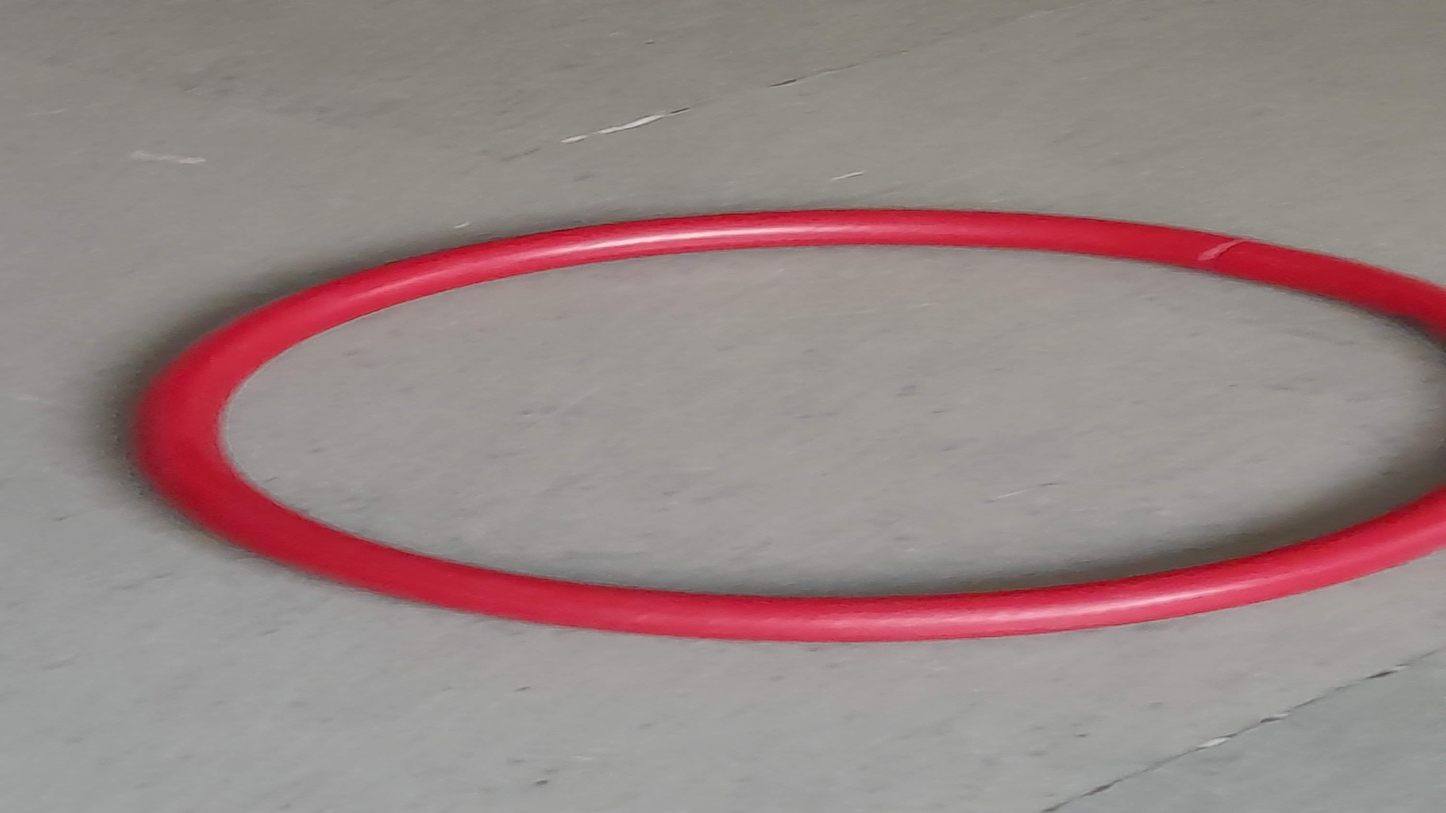Red ring: (133, 210, 1446, 638)
